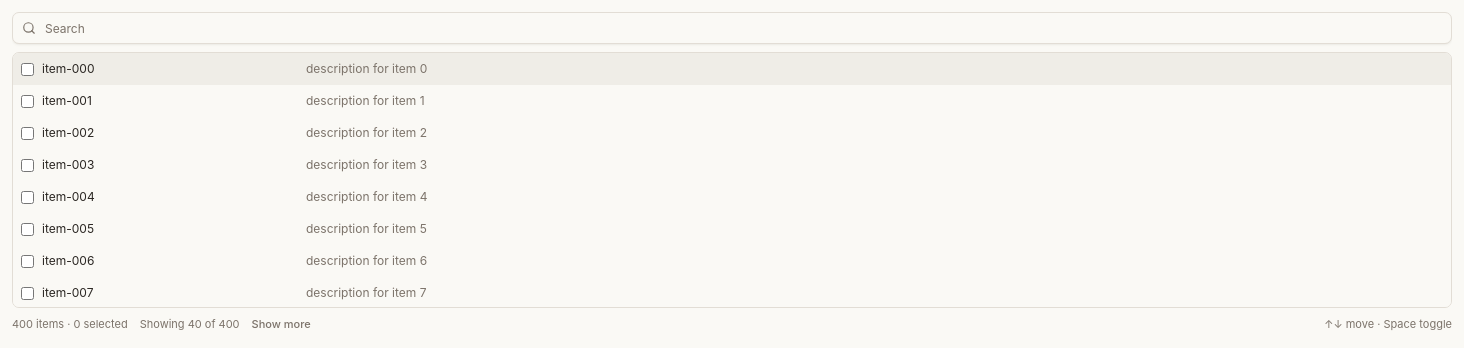
Test case: EntityPicker sizing › reaches a deep item by search without paging through to it
Type "item-399" into the field with placeholder "Search". click: (732, 28)
box: top-left (12, 12), bottom-right (1452, 44)
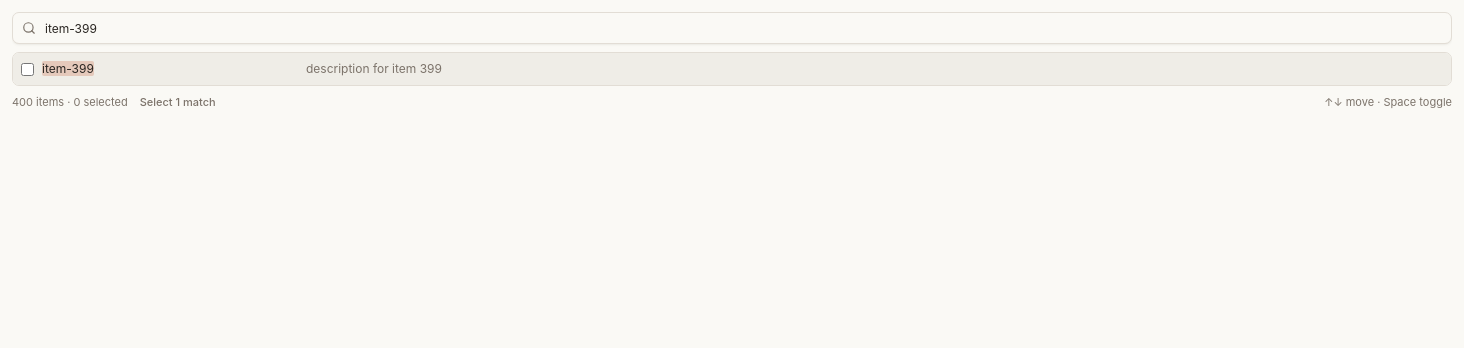
Expected: the number of checkboxes is 1, top-left (21, 62), bottom-right (34, 76)
Expected: the text "item-399" is shown, top-left (42, 61), bottom-right (94, 76)
